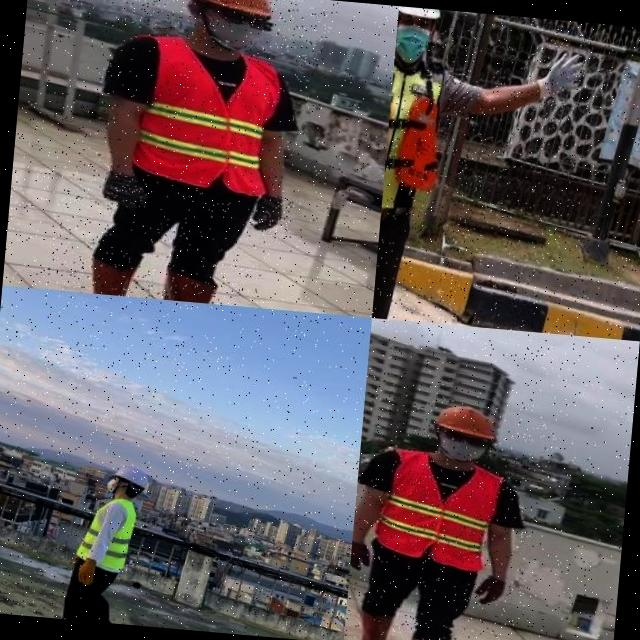boots: (61, 248, 157, 298), (158, 264, 249, 306), (347, 606, 398, 640), (396, 633, 455, 640)
helmet: (432, 395, 501, 444), (176, 0, 283, 24), (108, 460, 152, 490), (398, 6, 450, 27)
vest: (102, 27, 301, 206), (368, 443, 512, 578), (379, 48, 468, 232), (74, 490, 142, 573)
